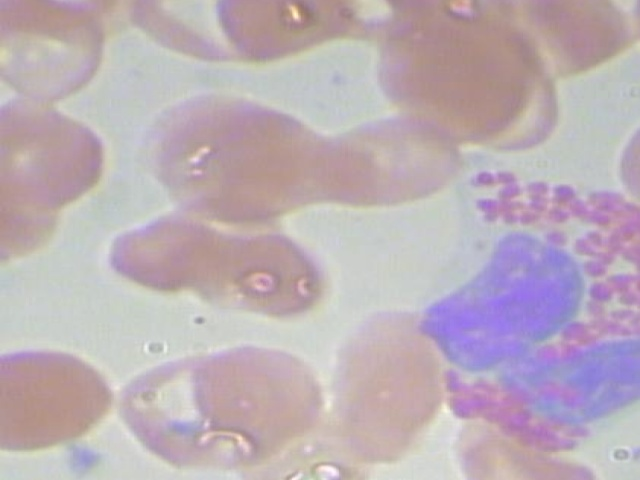Platelets: (52, 441, 116, 479)
RBC: (140, 86, 350, 223), (362, 8, 569, 133), (309, 304, 460, 469), (298, 109, 478, 209), (181, 336, 327, 442), (0, 99, 125, 218), (0, 343, 133, 451), (192, 223, 340, 319), (90, 201, 238, 296), (0, 0, 134, 100), (202, 0, 368, 66), (228, 407, 374, 480), (450, 417, 598, 480), (0, 161, 75, 257), (599, 76, 640, 208), (626, 0, 640, 97)
WBC: (414, 142, 640, 451)
